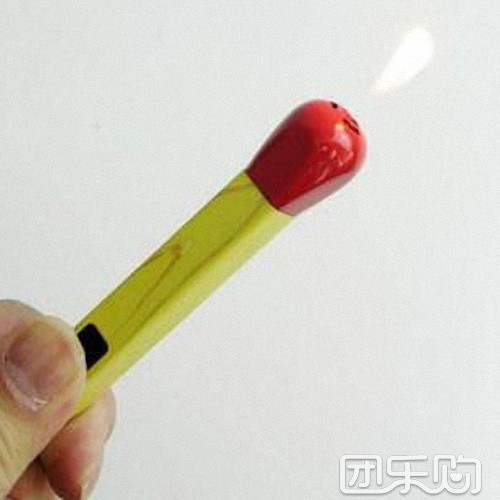fire: (366, 22, 444, 132)
